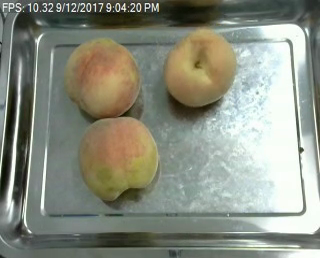Peach: (79, 117, 160, 201), (65, 36, 139, 118), (163, 27, 236, 105)
